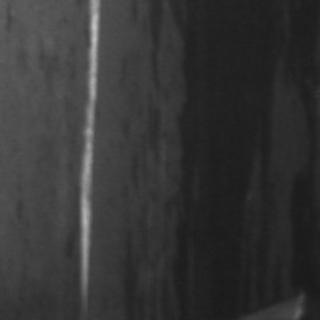inclusion: (132, 0, 294, 312)
scratches: (70, 0, 104, 308)
